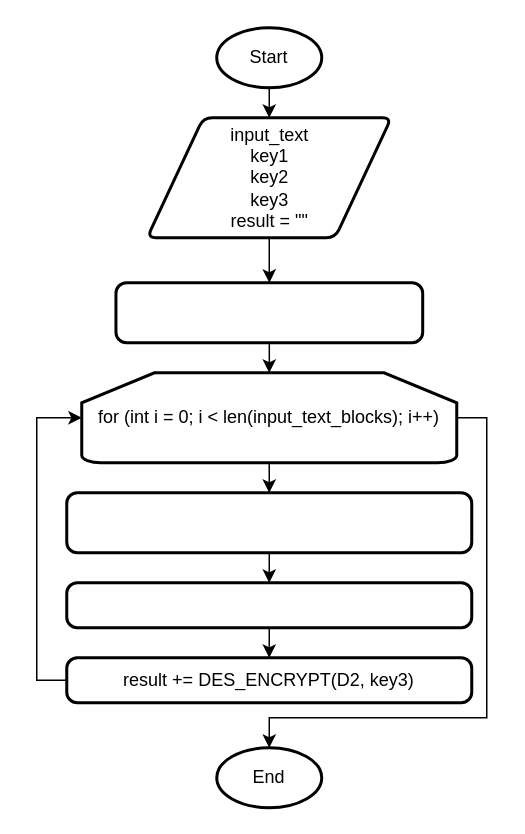
Image size: 525x834. Some labels were removed from this diagram. The shapes that lost their labels are listed below. From the top down, each one's box as (x1, y1, x2, y2) in pixels, then its label:
(114, 280, 423, 344): input_text_blocks = split(text=input_text, block_size=64)
(64, 490, 472, 554): D1 = DES_ENCRYPT(input_text_blocks[i], key1)
(64, 580, 472, 628): D2 = DES_DECRYPT(D1, key2)
